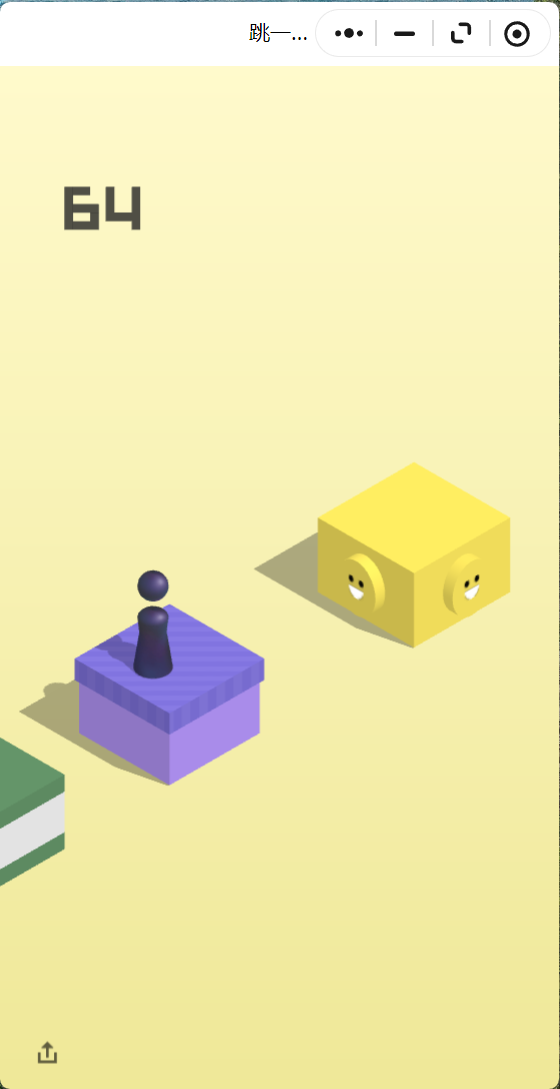piece: (137, 570, 169, 674)
target: (319, 463, 510, 572)
